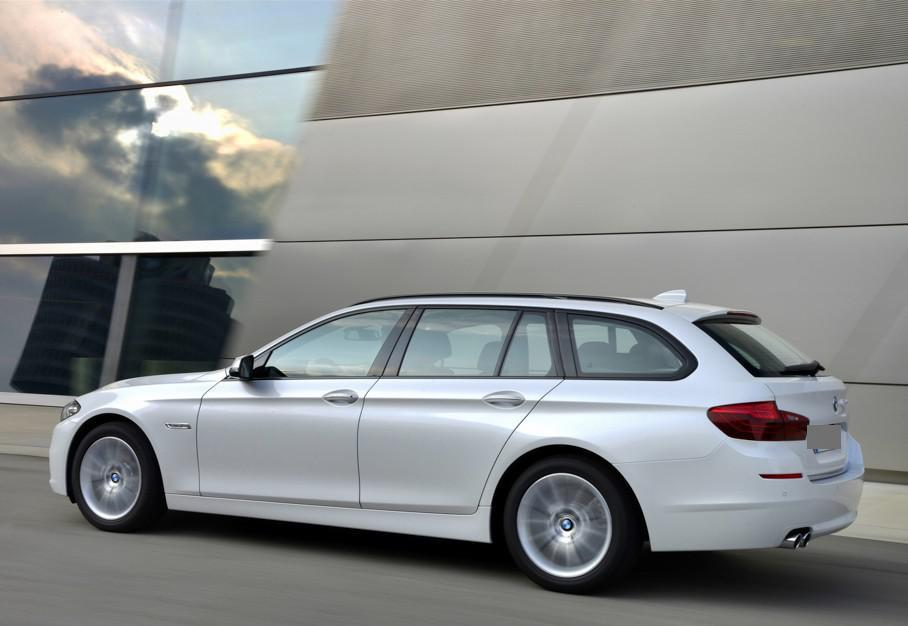Wagon: (48, 288, 867, 597)
